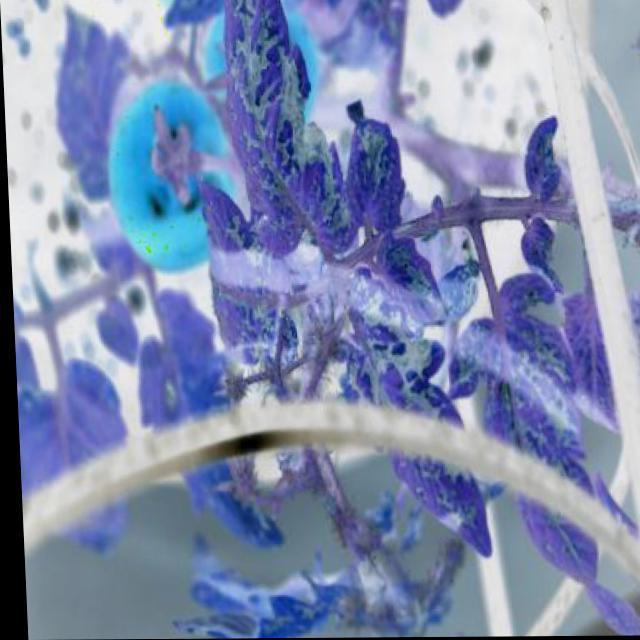Tomato late blight leaf: (448, 252, 596, 588), (342, 306, 502, 576), (216, 1, 363, 282), (197, 180, 290, 375), (342, 100, 408, 242)
